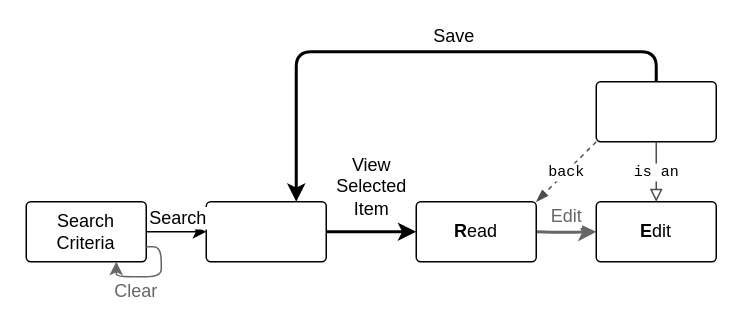
Some shapes in this 743 by 327 pixel diagram are drawn without their labels. The centre of each missing label's shape, as x and y in pixels:
A dd (generate UUID clientside): (655,111)
SummaryItem List ( B rowse): (265,231)
